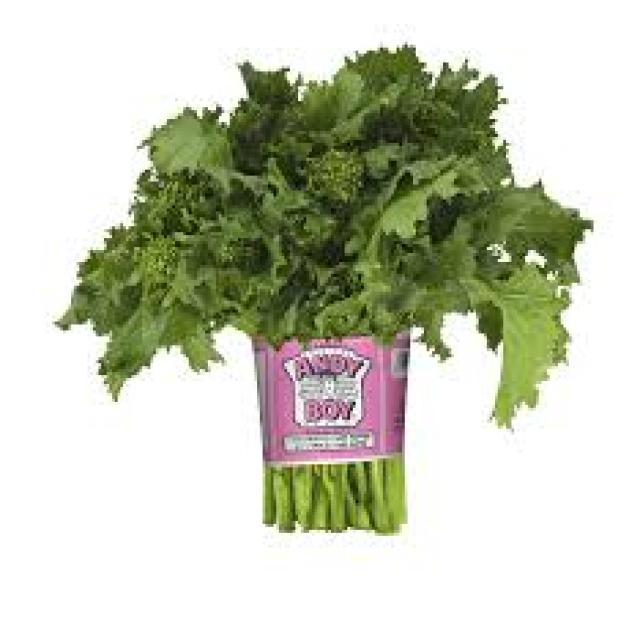organic waste: (46, 42, 591, 530)
